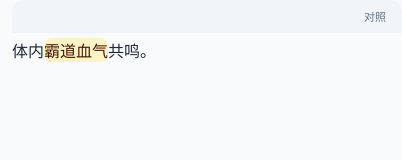
Scenario: shows a bloodline replacement as one highlight with the complete original phrase
Click the button with aria-label "查看修改原文" at [76, 50], box top-left (44, 38), bottom-right (108, 62)
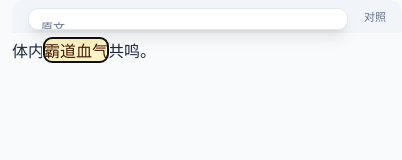
expect the tooltip reads "原文 始祖血脉": met, box top-left (28, 8), bottom-right (348, 30)
